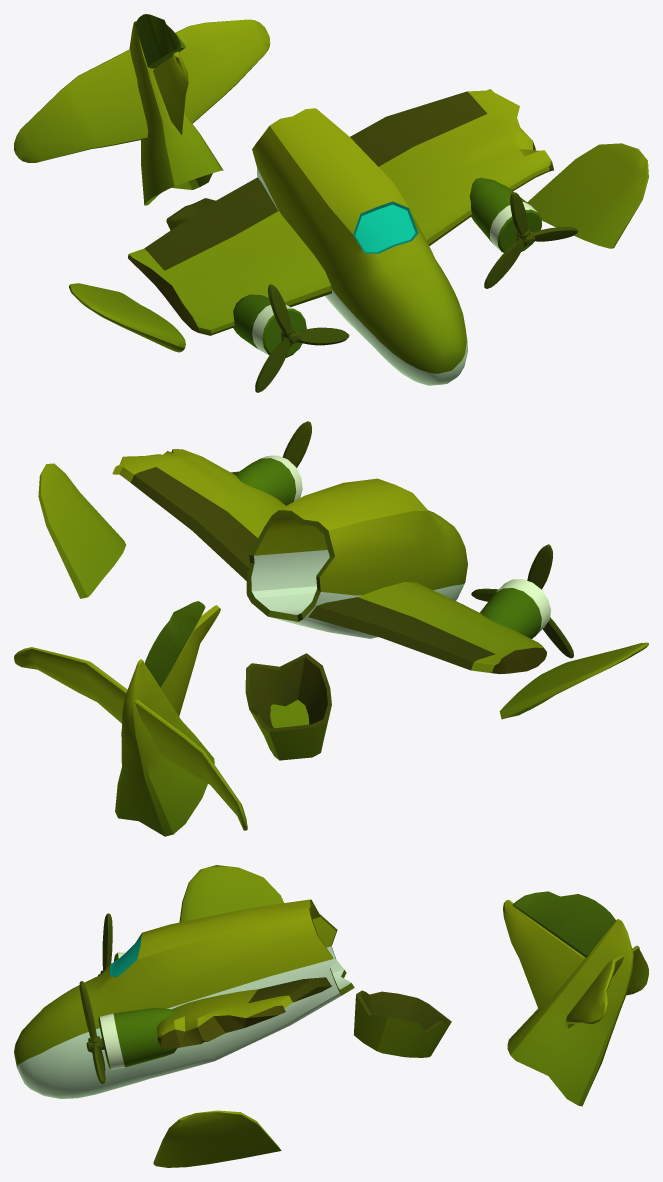
Rendered from Vehicle_Crashed_Plane_01.fbx.
The picture shows the model from 3 angles, top to bottom: view 1: azimuth 30°, elevation 25°; view 2: azimuth 150°, elevation 25°; view 3: azimuth 270°, elevation 25°; orthographic projection. The views are drawn at different scales.
Parts seen in each view (by area): view 1: Vehicle_Crashed_Plane_01; view 2: Vehicle_Crashed_Plane_01; view 3: Vehicle_Crashed_Plane_01.
Boxes of the visible parts, <box> form: Vehicle_Crashed_Plane_01: <box>14,14,648,392</box>; Vehicle_Crashed_Plane_01: <box>14,421,648,836</box>; Vehicle_Crashed_Plane_01: <box>14,865,648,1167</box>.
Size of the model in its own units: 938 by 318 by 922.
